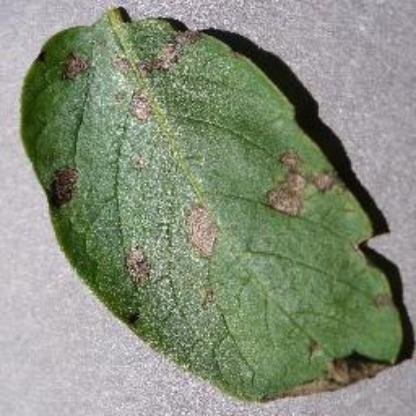Early-Blight: (20, 4, 408, 402)
